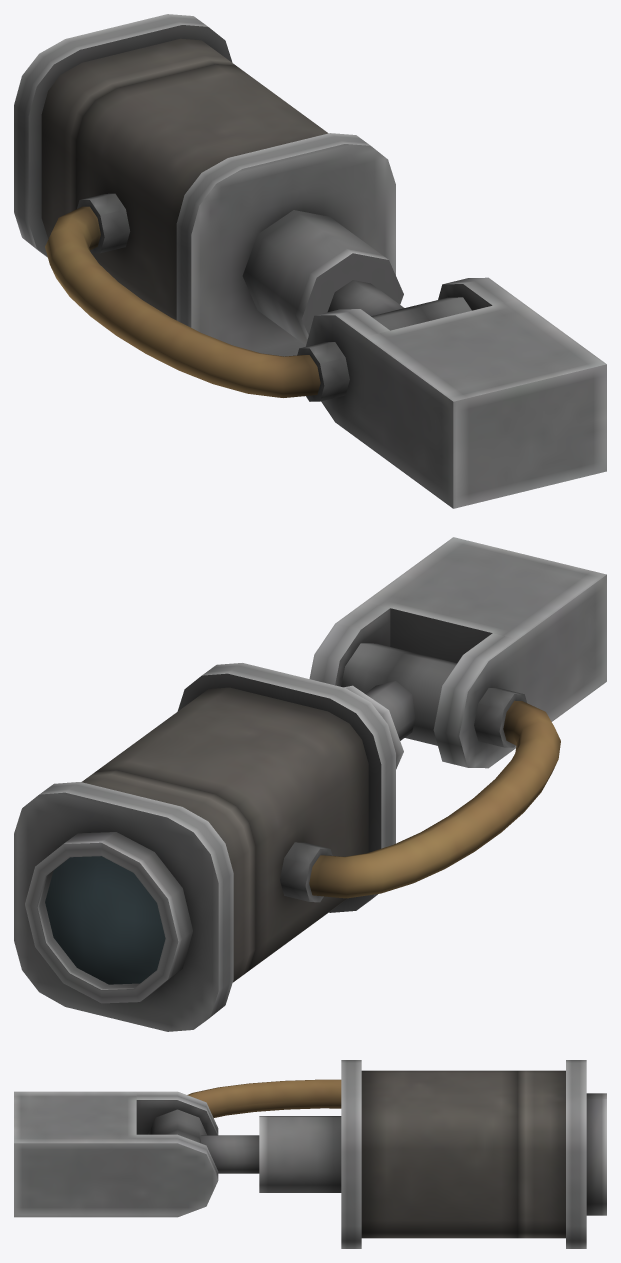
The model's file is grus_sensor_tv_camera.obj.
3 renders of one model, top to bottom at view 1: azimuth 30°, elevation 25°; view 2: azimuth 150°, elevation 25°; view 3: azimuth 270°, elevation 25°, orthographic. The views are drawn at different scales.
Parts seen in each view (by area): view 1: 2, base2; view 2: 2, base2, g2; view 3: 2, base2.
Boxes of the visible parts, left/top/right/bottom form: 2: left=14, top=14, right=471, bottom=397; base2: left=297, top=277, right=606, bottom=508; 2: left=14, top=643, right=560, bottom=1031; base2: left=309, top=537, right=606, bottom=768; g2: left=45, top=856, right=165, bottom=984; 2: left=148, top=1060, right=606, bottom=1248; base2: left=14, top=1091, right=218, bottom=1217.
Size of the model in its own units: 0.1468 by 0.1 by 0.3625.
Materials: 2 (2 with a texture image).
